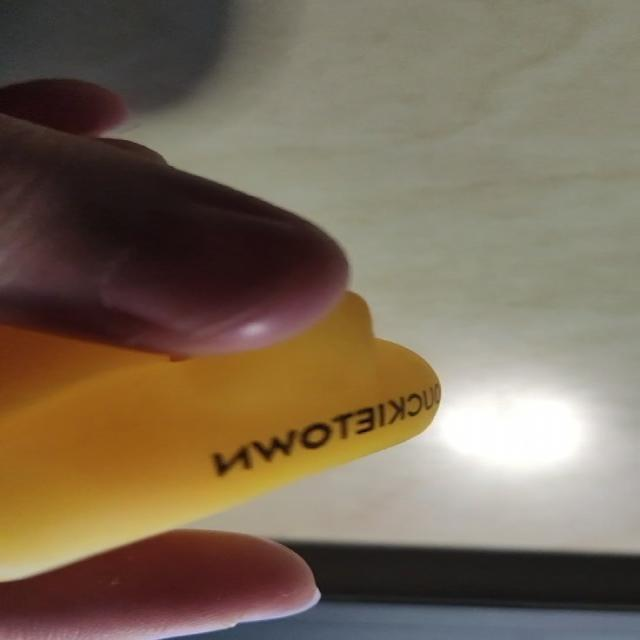rubber-duck: (0, 291, 439, 579)
